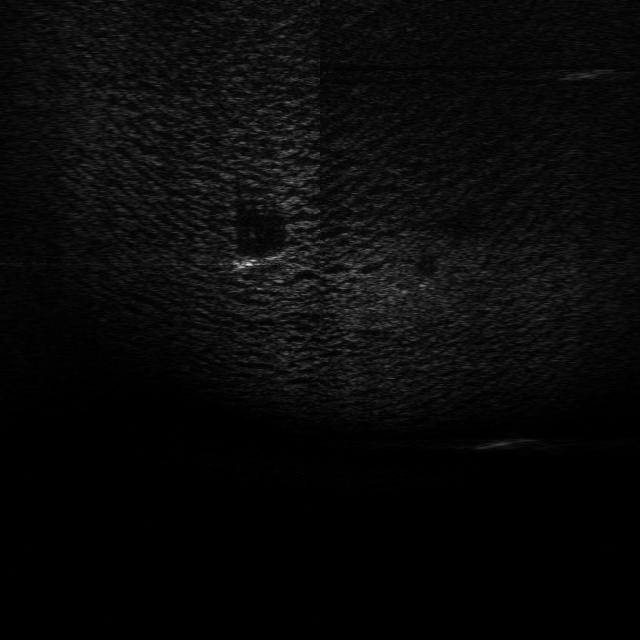plane: (230, 245, 290, 271)
